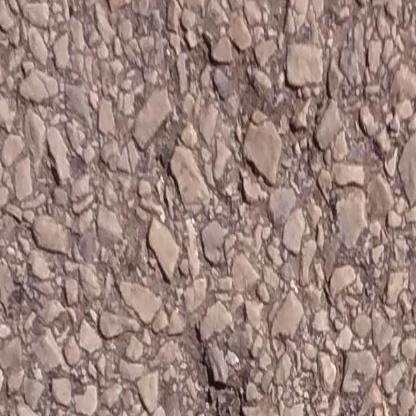Cracks: (194, 341, 257, 416)
